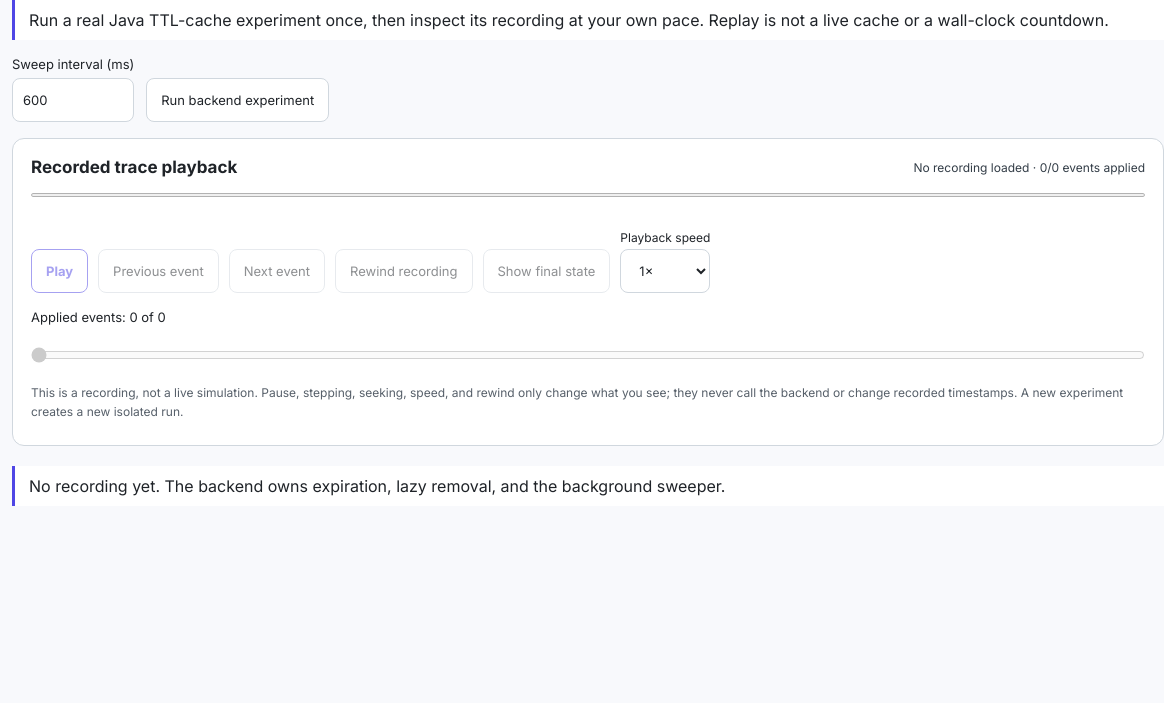
TTL recorded-state UI › preserves the last recording and actual run parameters after a domain error
Submit the form "Run backend experiment", box top-left (12, 56), bottom-right (329, 122)
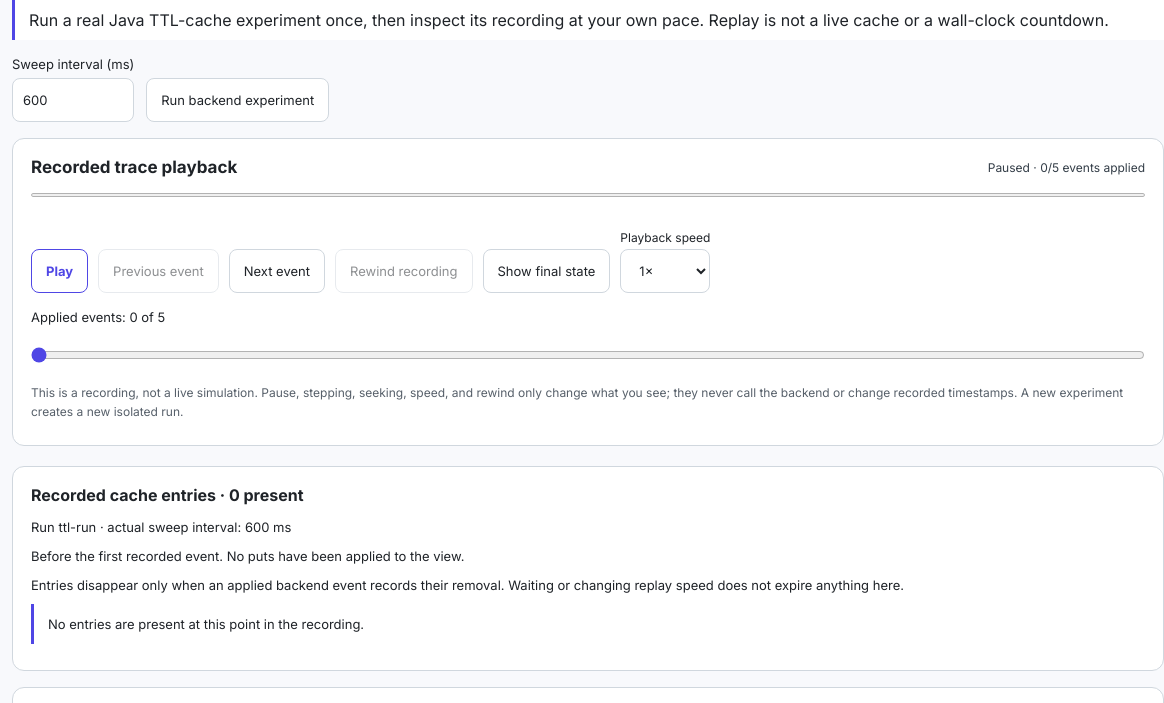
Check: the text "Paused · 0/5 events applied" is shown, box top-left (988, 160), bottom-right (1145, 174)
Replace the text in the number field labelled "Sweep interval (ms)" with "55": (73, 100) top-left (12, 78), bottom-right (134, 122)
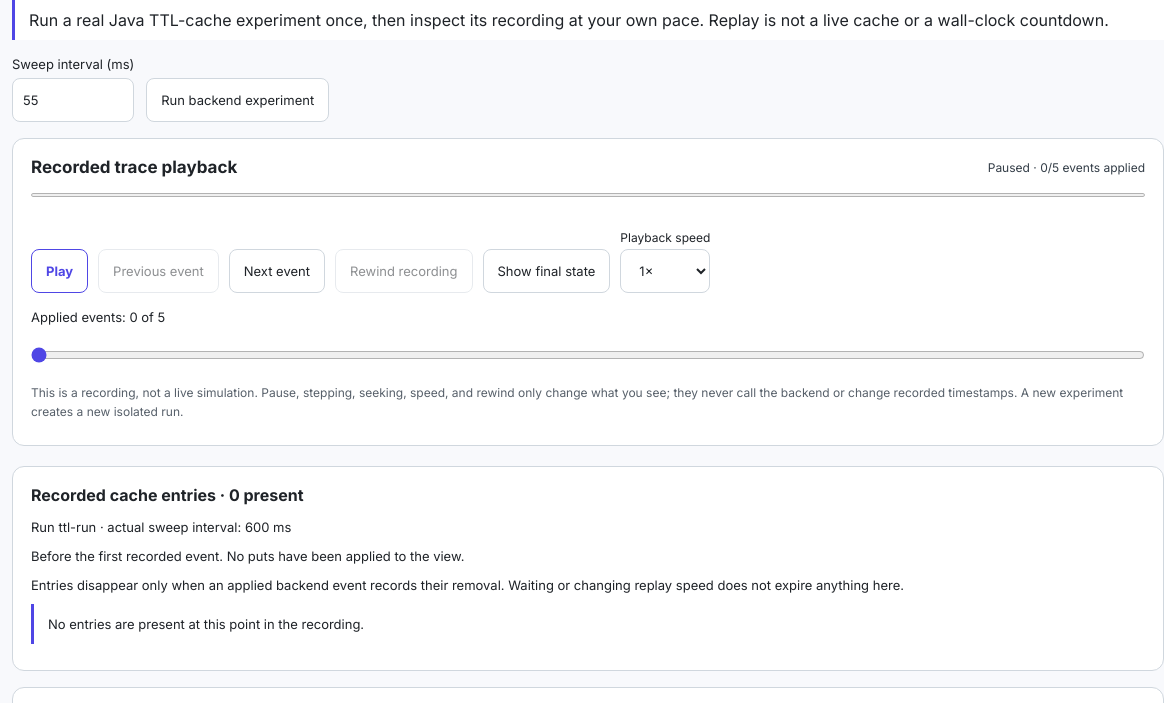
Submit the form "Run backend experiment", box top-left (12, 56), bottom-right (329, 122)
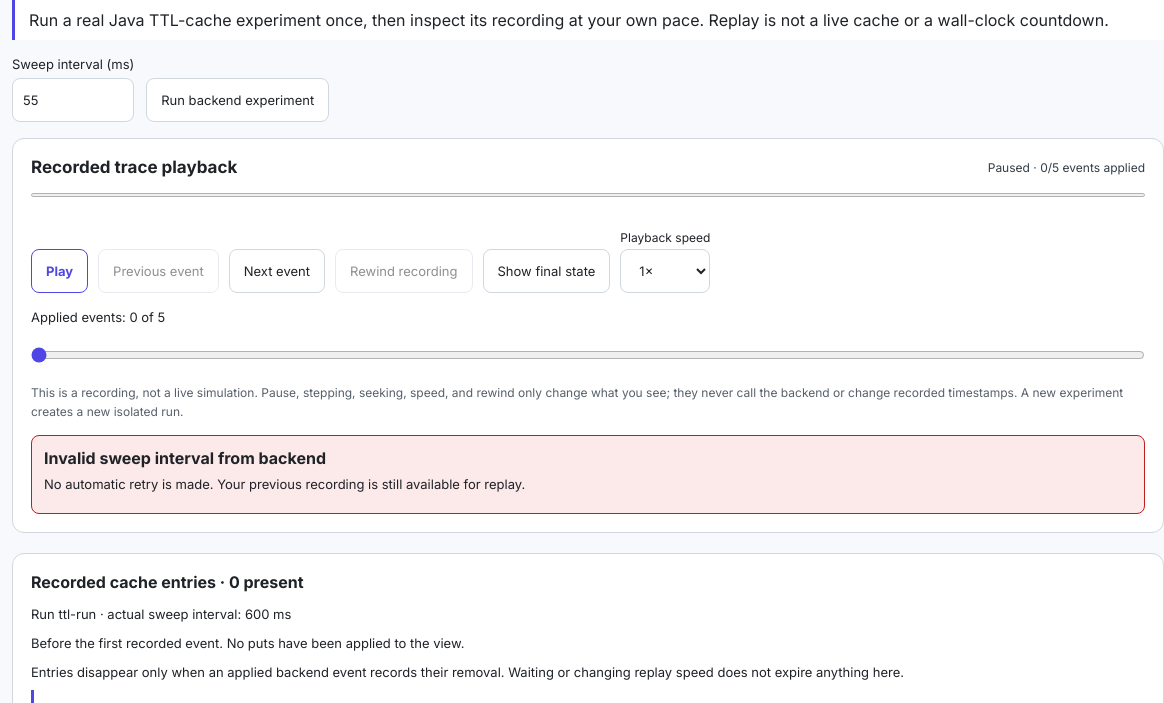
Check: the text "Run ttl-run · actual sweep interval: 600 ms" is shown, box top-left (31, 606), bottom-right (291, 622)
Check: the message that starts with "Invalid sweep interval from backend" is shown, box top-left (44, 448), bottom-right (326, 468)
Click the button "Next event": (277, 271) top-left (229, 249), bottom-right (325, 293)
(page scrolled)
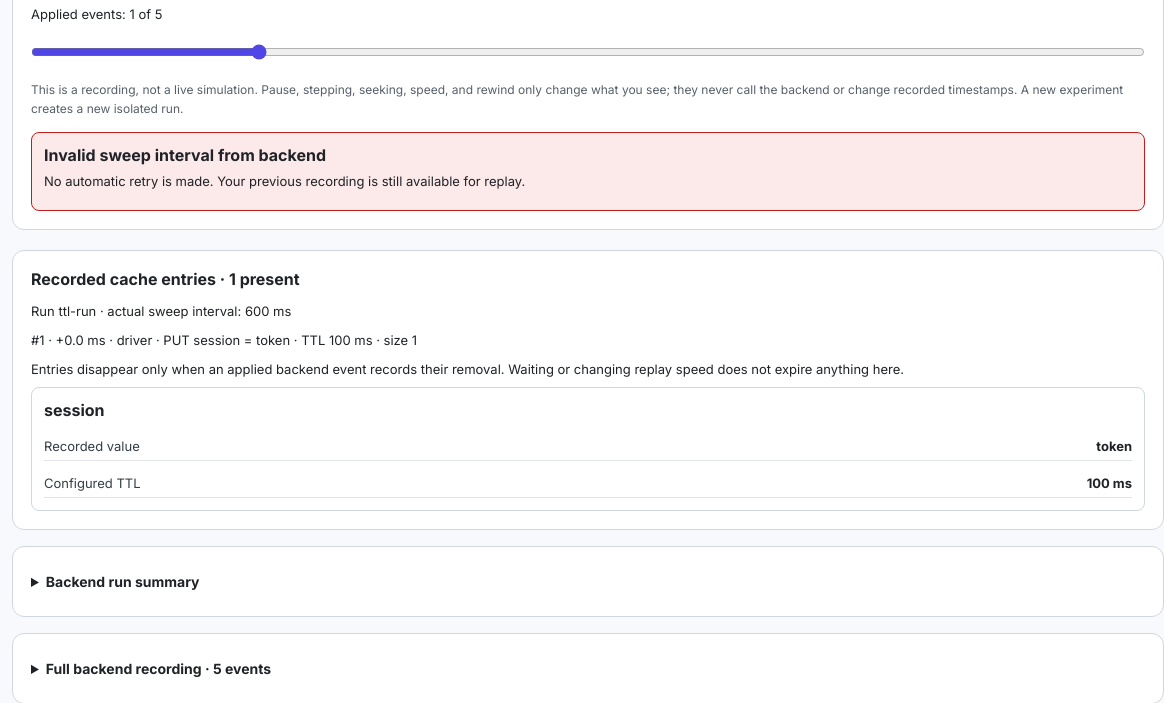
Check: the heading "session" is shown, box top-left (44, 400), bottom-right (104, 420)
